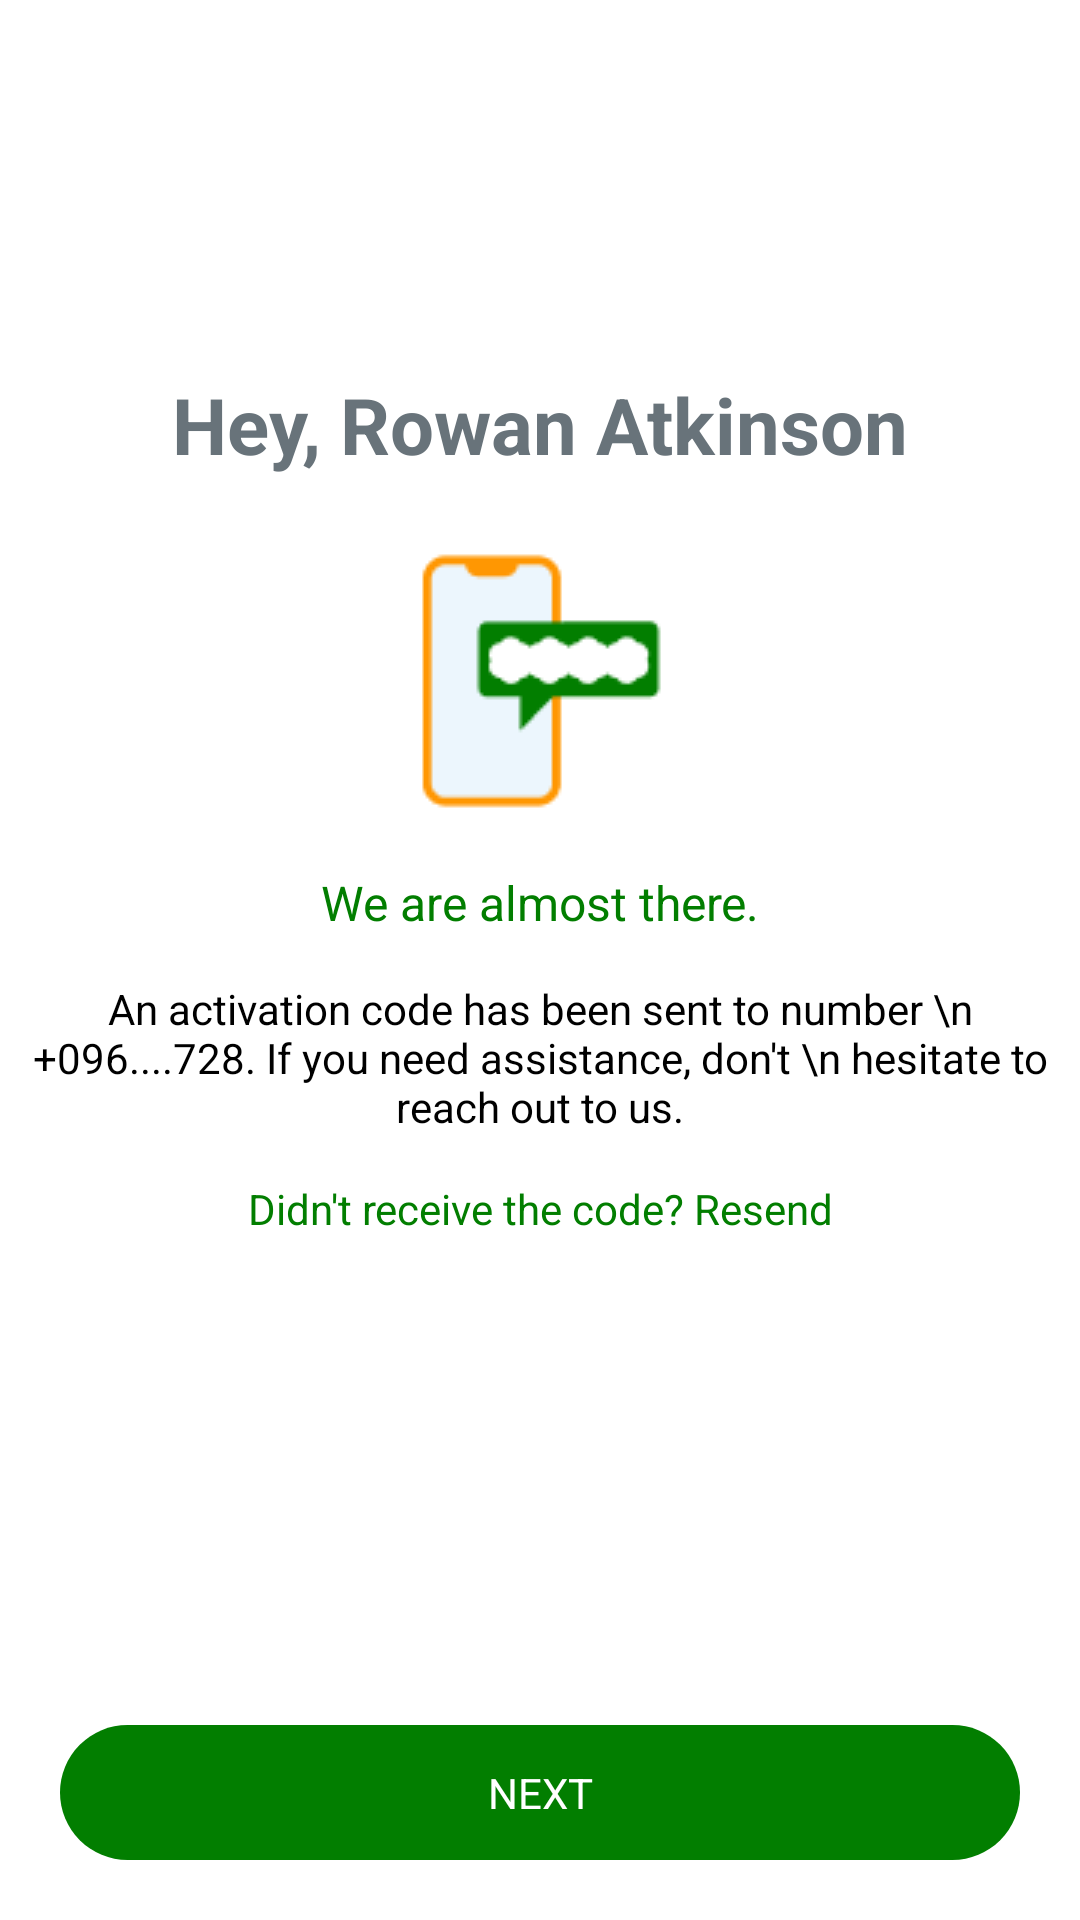

Icons on this 1080×1920 Android screen, each with the point to tap as point (x, y):
otp verification: point (541, 681)
